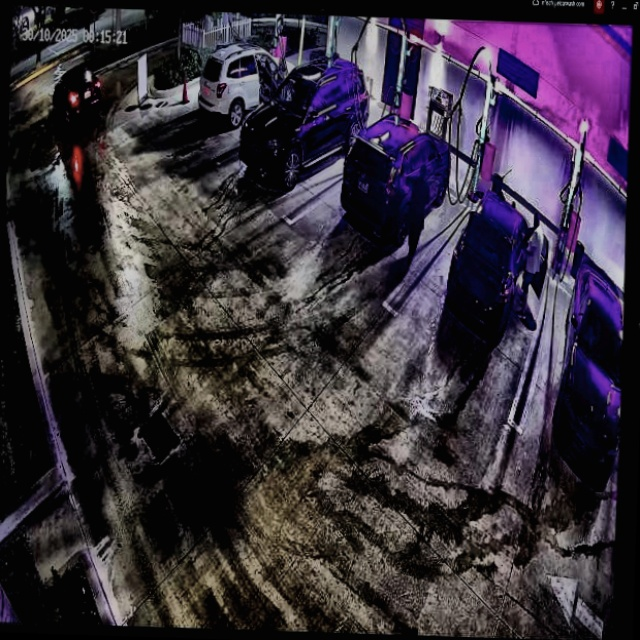Car: (243, 52, 365, 200), (341, 100, 450, 245), (448, 191, 549, 333)
